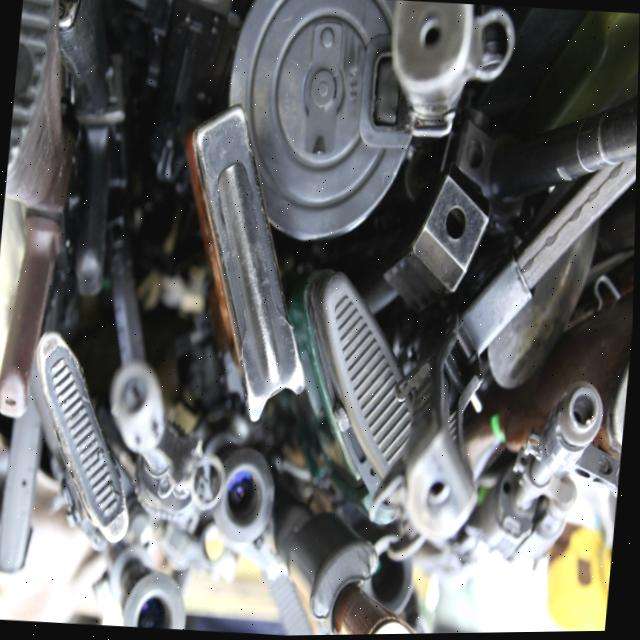firearm: (478, 371, 629, 571), (100, 350, 232, 527), (381, 0, 516, 145)
